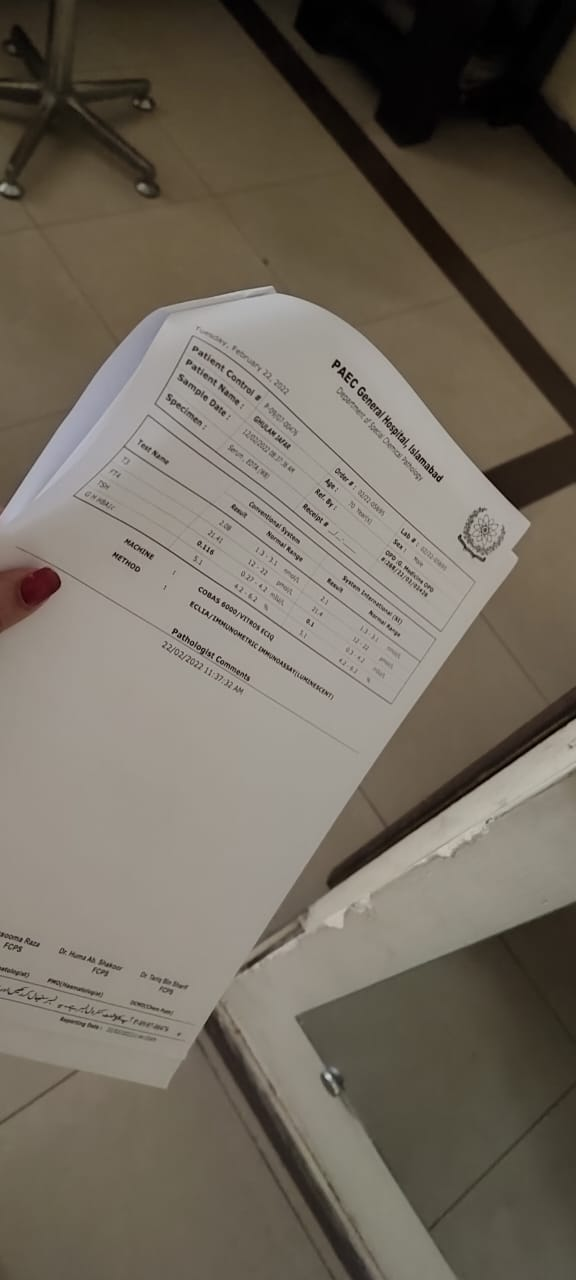report: (79, 413, 441, 707)
